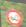Speed Limit -60-: (4, 7, 21, 25)
